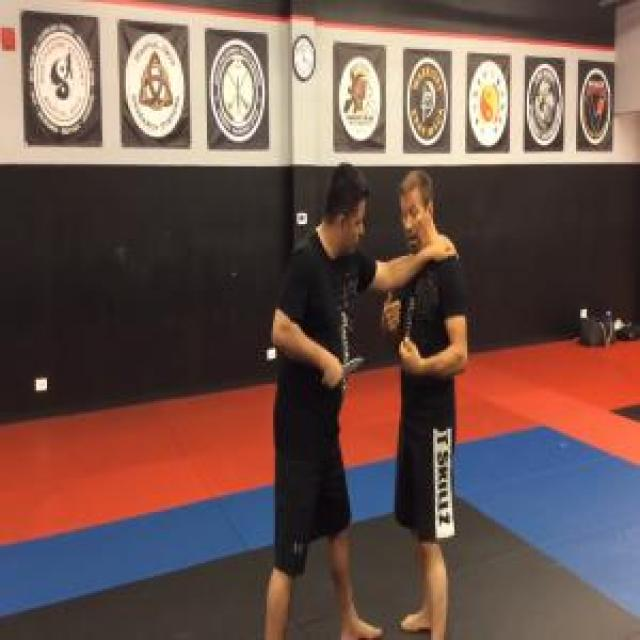knife: (320, 352, 364, 393)
